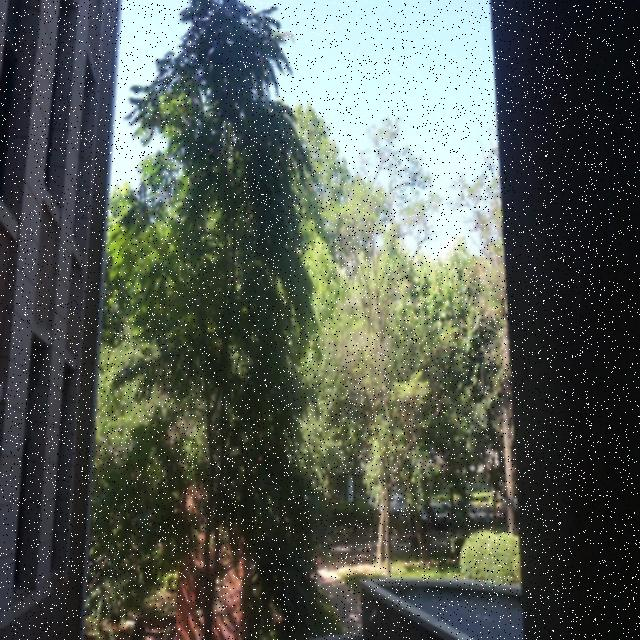UAV: (362, 294, 368, 309)
